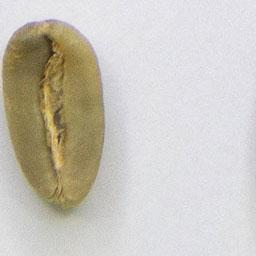longberry: (2, 15, 109, 213)
